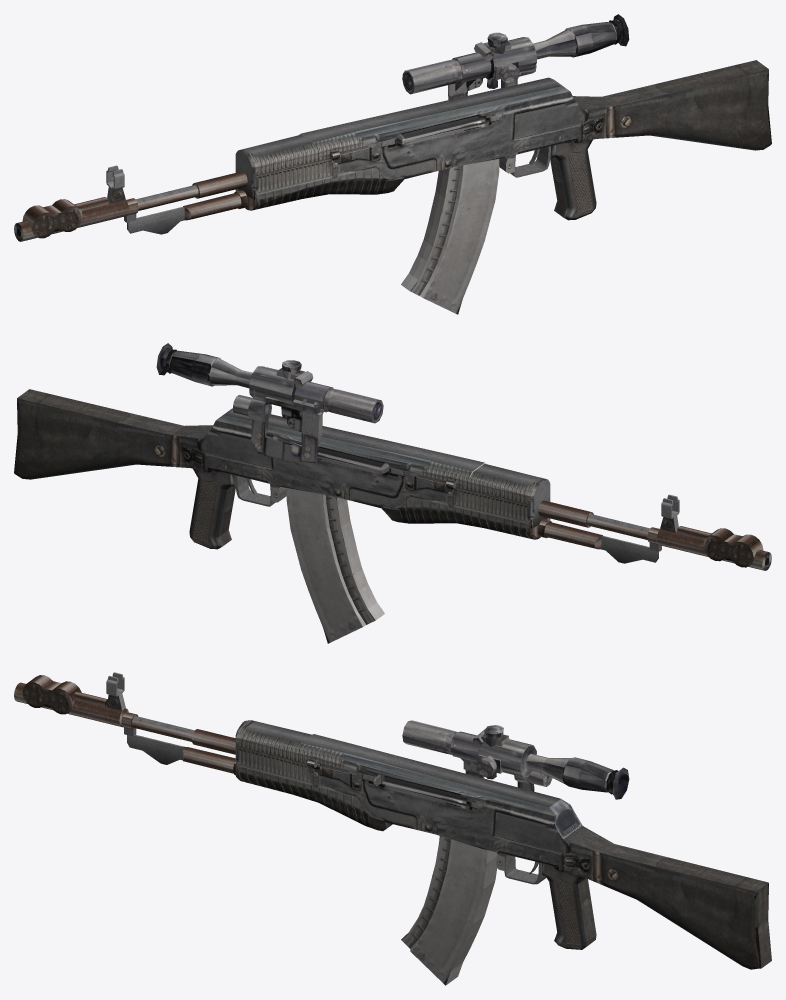
The model's file is w_an94_pso.obj.
3 views of the same model, one above another, from view 1: azimuth 30°, elevation 25°; view 2: azimuth 150°, elevation 25°; view 3: azimuth 330°, elevation 25° (orthographic).
Visible parts, largest first — view 1: Cube, W_Pso1; view 2: Cube, W_Pso1; view 3: Cube, W_Pso1.
Part boxes in pixels (x1,y1,x2,y2): Cube: [14, 60, 771, 314]; W_Pso1: [402, 14, 629, 99]; Cube: [14, 389, 771, 643]; W_Pso1: [156, 343, 383, 463]; Cube: [14, 672, 771, 985]; W_Pso1: [402, 720, 629, 799].
Bounding box in the file's own units: 17.76 × 5.99 × 1.18.
